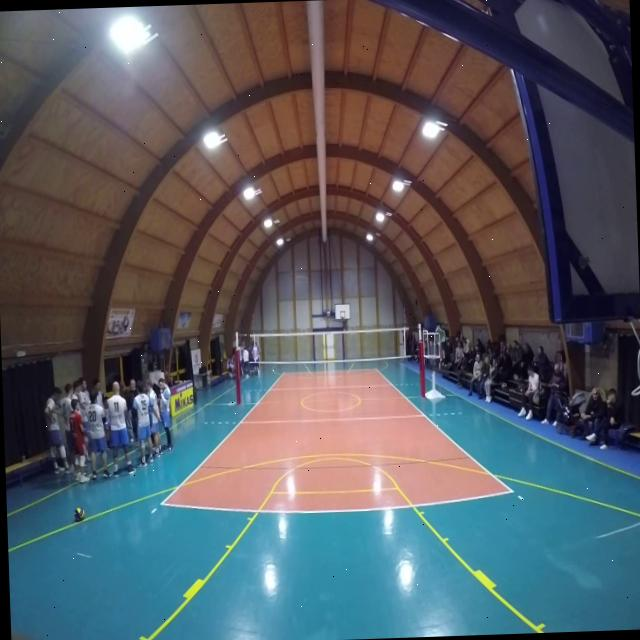Volleyball: (74, 505, 86, 524)
